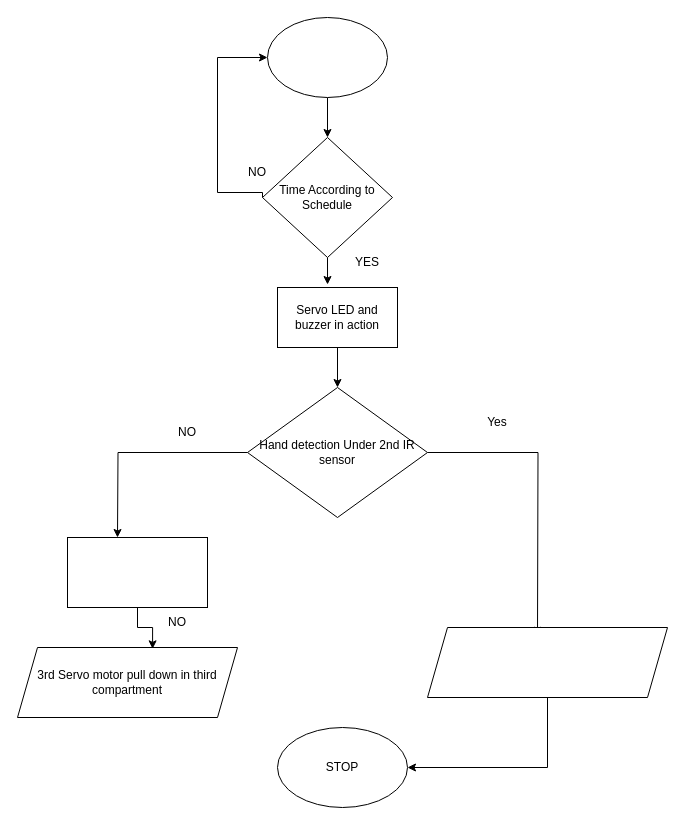
This 685x825 diagram has some shape labels left out. Each missing label, with the centre of its shape:
LED and Buzzer after 5 minute again: (137,572)
Servomotor 2nd pill dispensed: (547,662)
START: (327,57)
